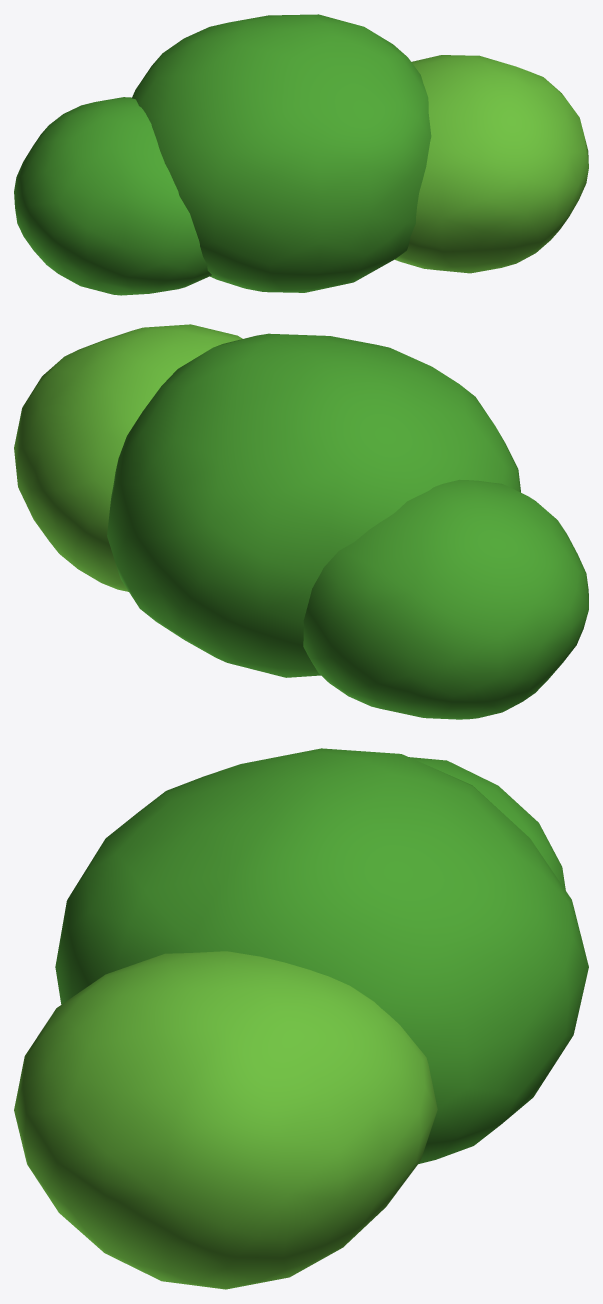
The model's file is bush.glb.
The picture shows the model from 3 angles, top to bottom: view 1: azimuth 30°, elevation 25°; view 2: azimuth 150°, elevation 25°; view 3: azimuth 270°, elevation 25°; orthographic projection. The views are drawn at different scales.
Parts seen in each view (by area): view 1: bush; view 2: bush; view 3: bush.
Boxes of the visible parts, x1=… form: bush: x1=14, y1=14, x2=588, y2=295; bush: x1=14, y1=324, x2=588, y2=719; bush: x1=14, y1=748, x2=588, y2=1289.
Size of the model in its own units: 1.93 by 0.9177 by 1.26.
